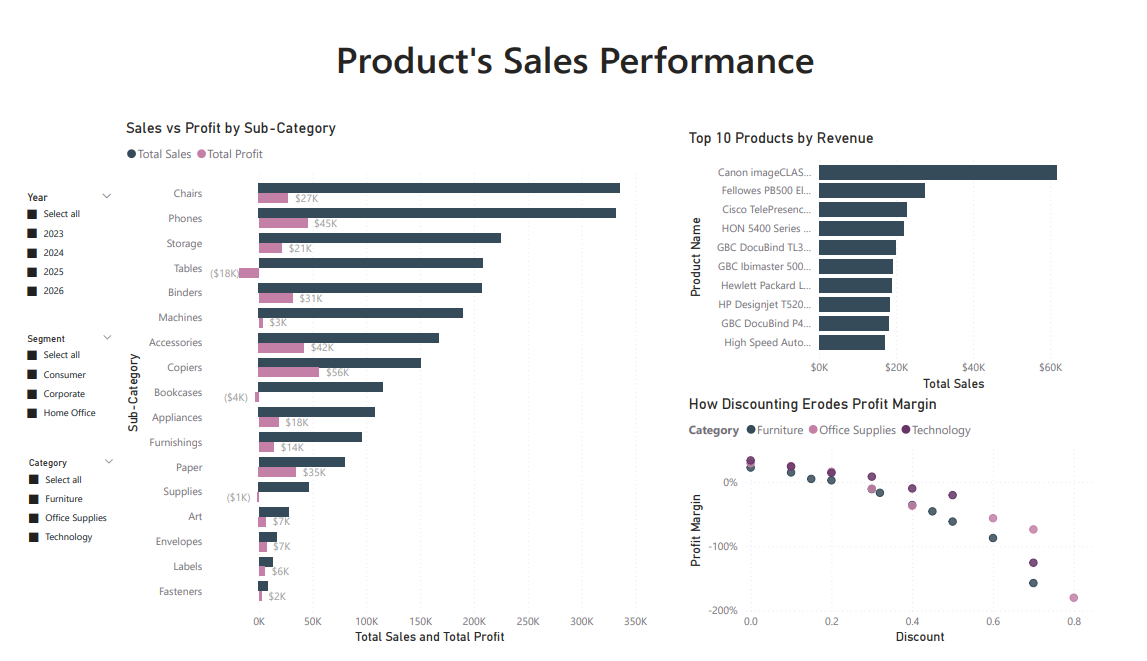

Layout of this report page (visuals, bound fields, positions):
{"tool":"powerbi","page":{"name":"Sales Performance","canvas":[1280,720],"ordinal":1},"visuals":[{"type":"clusteredBarChart","title":"Sales vs Profit by Sub-Category","fields":{"Category":["sample_-_superstore.Sub-Category"],"Y":["sample_-_superstore.Total Sales","sample_-_superstore.Total Profit"]},"box":[121.4,116.6,621.8,604],"z":0},{"type":"clusteredBarChart","title":"Top 10 Products by Revenue","fields":{"Category":["sample_-_superstore.Product Name"],"Y":["sample_-_superstore.Total Sales"]},"box":[764.3,127.9,480.9,304.4],"z":1000},{"type":"textbox","box":[273.6,13,730.3,74.5],"z":2000},{"type":"scatterChart","title":"How Discounting Erodes Profit Margin","fields":{"X":["sample_-_superstore.Discount"],"Y":["sample_-_superstore.Profit Margin"],"Series":["sample_-_superstore.Category"]},"box":[764.3,432.3,480.9,288.2],"z":3000},{"type":"slicer","fields":{"Values":["sample_-_superstore.Year"]},"box":[0,187.8,121.4,139.3],"z":4000},{"type":"slicer","fields":{"Values":["sample_-_superstore.Segment"]},"box":[0,370.8,121.4,123.1],"z":5000},{"type":"slicer","fields":{"Values":["sample_-_superstore.Category"]},"box":[0,514.9,121.4,121.4],"z":6000}]}

Visuals, with their boxes in screenshot pixels (x1, y1, x2, y2), scaled from the page's 1280x720 canvas onto the 1147x661 screenshot:
"Sales vs Profit by Sub-Category" clusteredBarChart: (left=109, top=107, right=666, bottom=660)
"Top 10 Products by Revenue" clusteredBarChart: (left=685, top=117, right=1116, bottom=397)
textbox: (left=245, top=12, right=900, bottom=80)
"How Discounting Erodes Profit Margin" scatterChart: (left=685, top=397, right=1116, bottom=660)
slicer - sample_-_superstore.Year: (left=0, top=172, right=109, bottom=300)
slicer - sample_-_superstore.Segment: (left=0, top=340, right=109, bottom=453)
slicer - sample_-_superstore.Category: (left=0, top=473, right=109, bottom=584)
